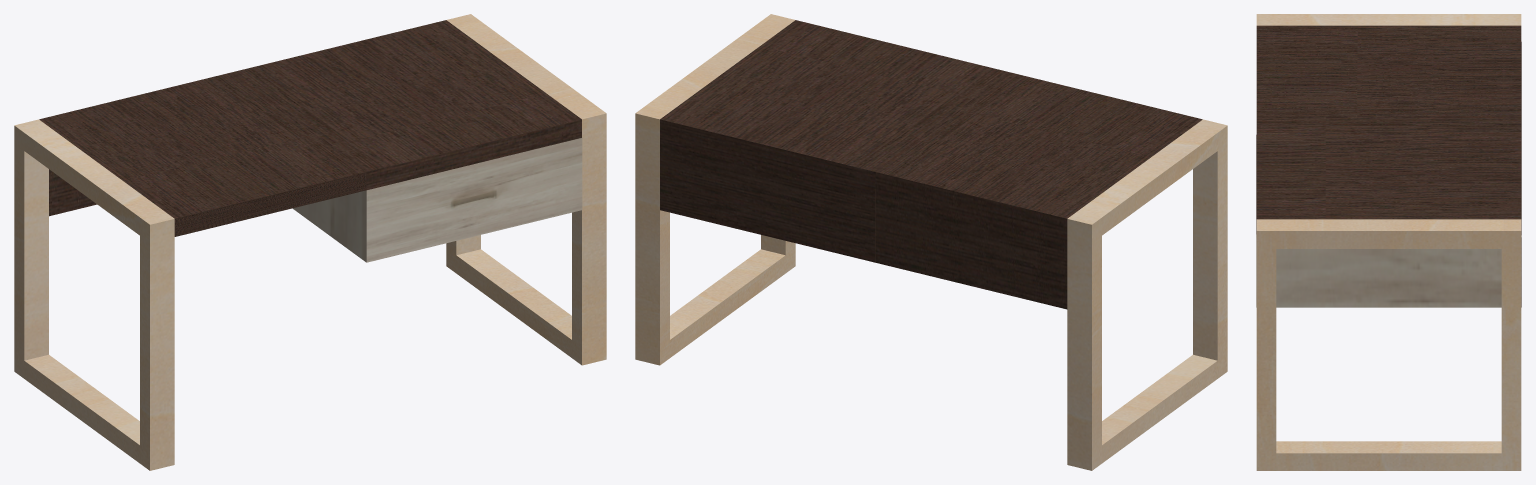
File: smalldesk.gltf
3 renders of one model, left to right at view 1: azimuth 30°, elevation 25°; view 2: azimuth 150°, elevation 25°; view 3: azimuth 270°, elevation 25°, orthographic. The views are drawn at different scales.
Visible parts, largest first — view 1: Cube; view 2: Cube; view 3: Cube.
Part boxes in pixels (x1,y1,x2,y2): Cube: [14, 14, 606, 470]; Cube: [635, 14, 1227, 470]; Cube: [1256, 14, 1521, 470].
Size of the model in its own units: 3.88 by 2 by 2.
1 material, 1 textured.
